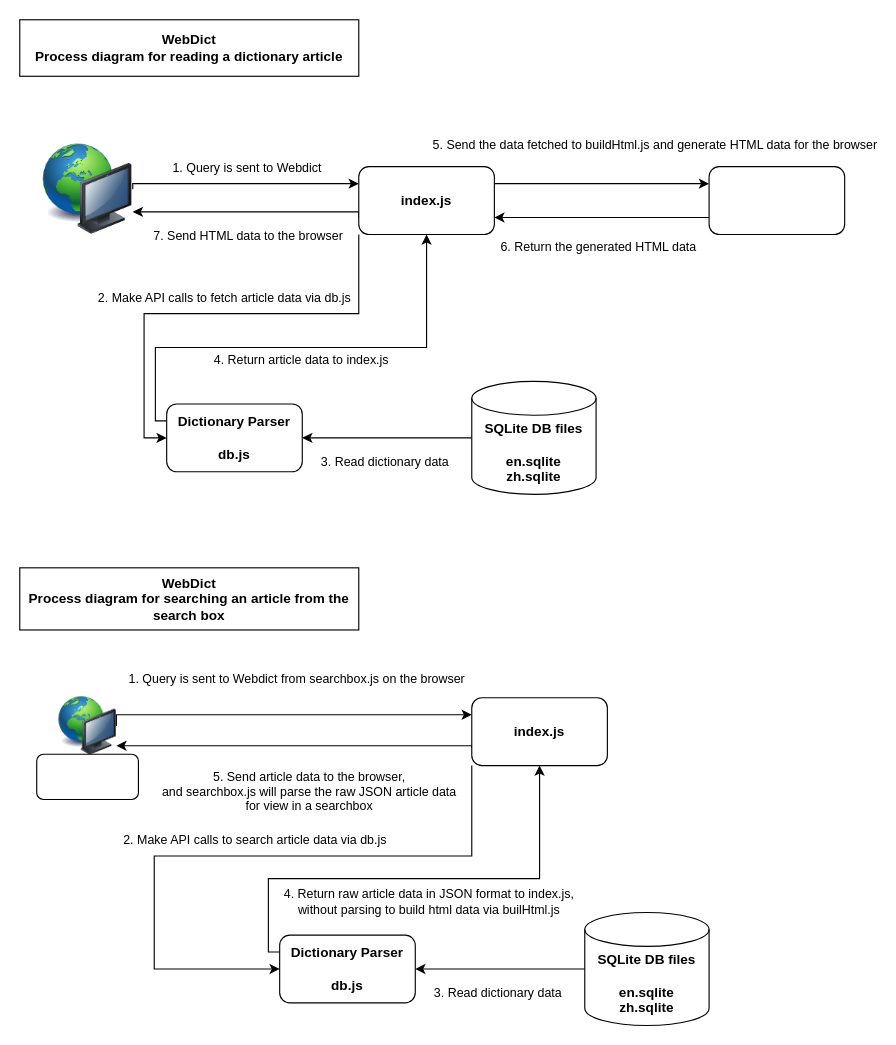
This 896x1045 diagram has some shape labels left out. The box of each missing label's shape, as (x1, y1, x2, y2) in pixels:
buildHtml.js: (708, 166, 845, 234)
searchbox.js: (36, 753, 138, 799)
